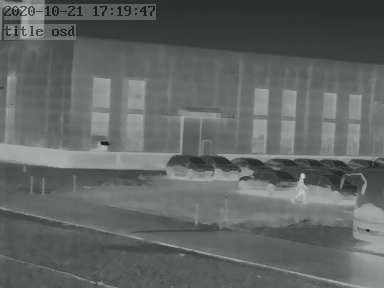person: (292, 173, 307, 205)
vehicle: (308, 172, 358, 204), (238, 169, 304, 192), (164, 153, 214, 179), (204, 153, 243, 176), (232, 154, 269, 171), (344, 156, 379, 172), (262, 155, 297, 170), (319, 157, 353, 172), (295, 156, 326, 170)
